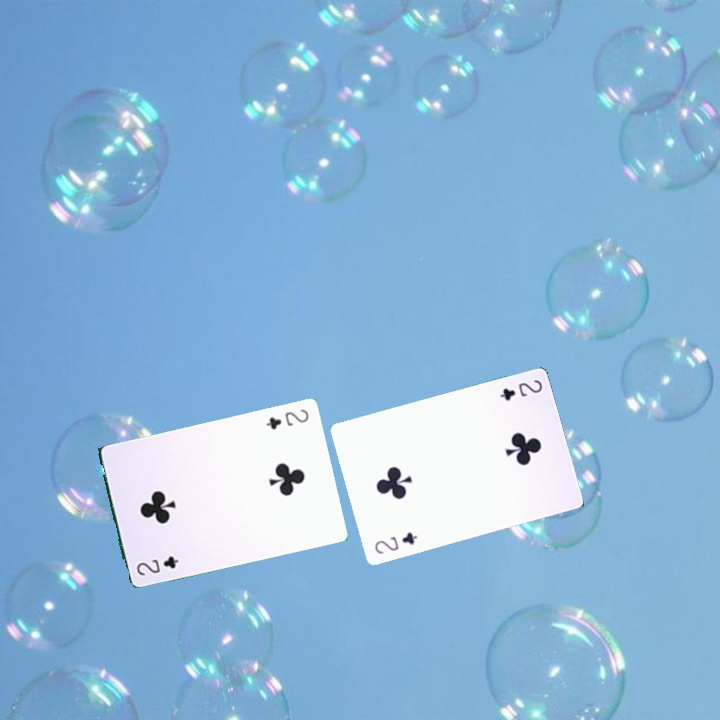2c: (371, 528, 420, 557), (496, 375, 545, 404), (262, 405, 311, 432), (132, 552, 181, 578)
